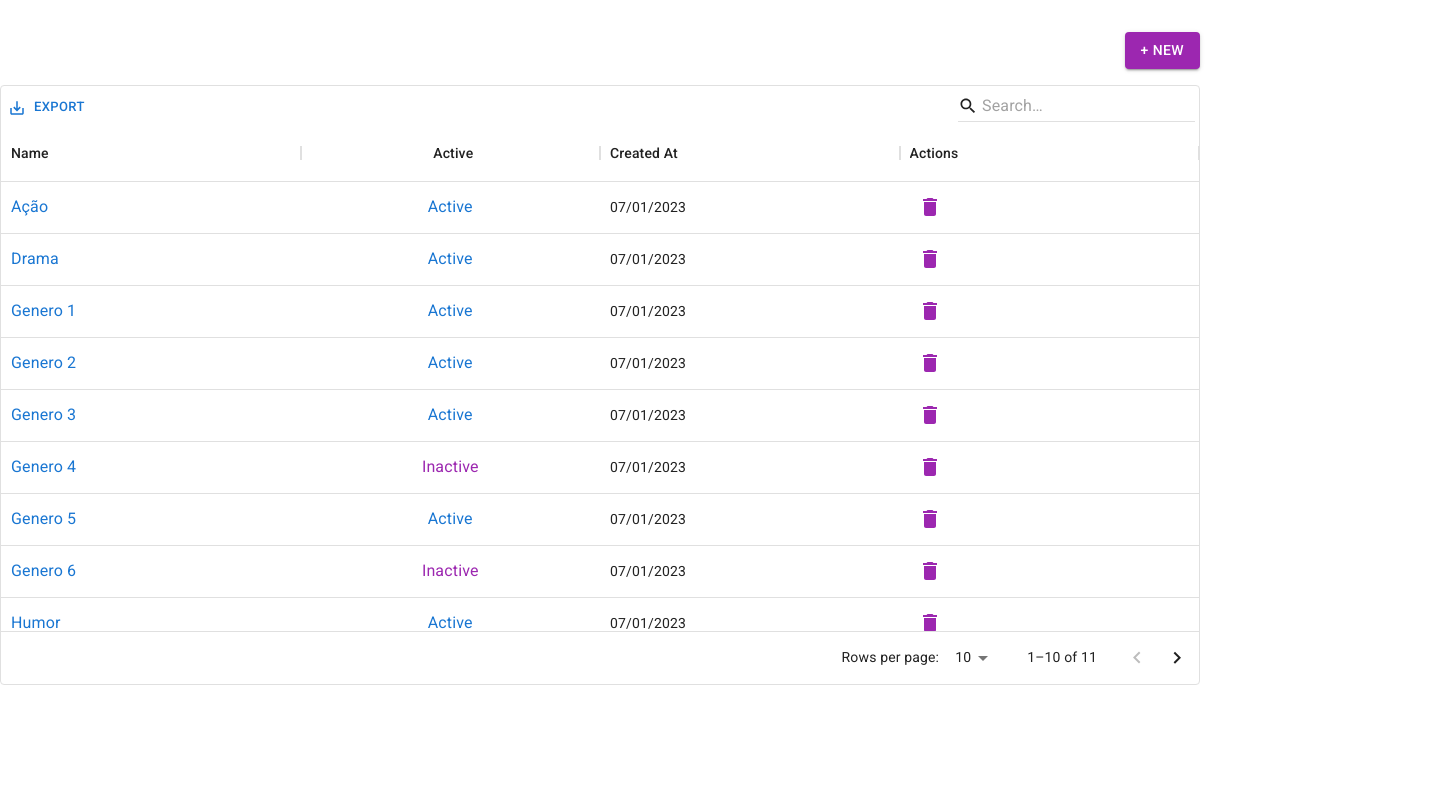
Test case: List genre › should handle on page change
Expected: the text "Ação" is shown, 11,195 -> 48,219
Click the button with test id "KeyboardArrowRightIcon" at (1177, 658), box 1157,638 -> 1197,678
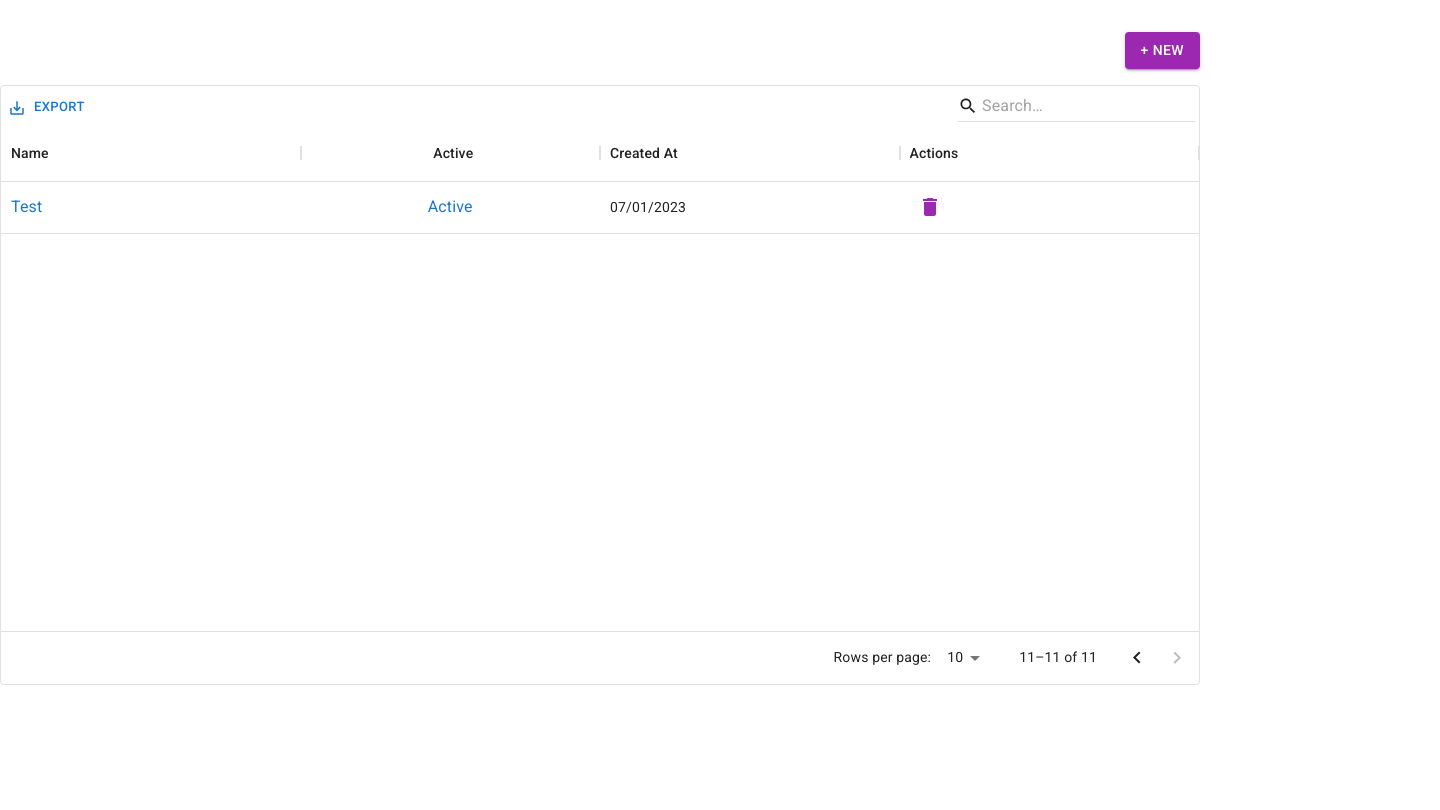
Result: the text "Test" is shown at 11,195 -> 42,219
